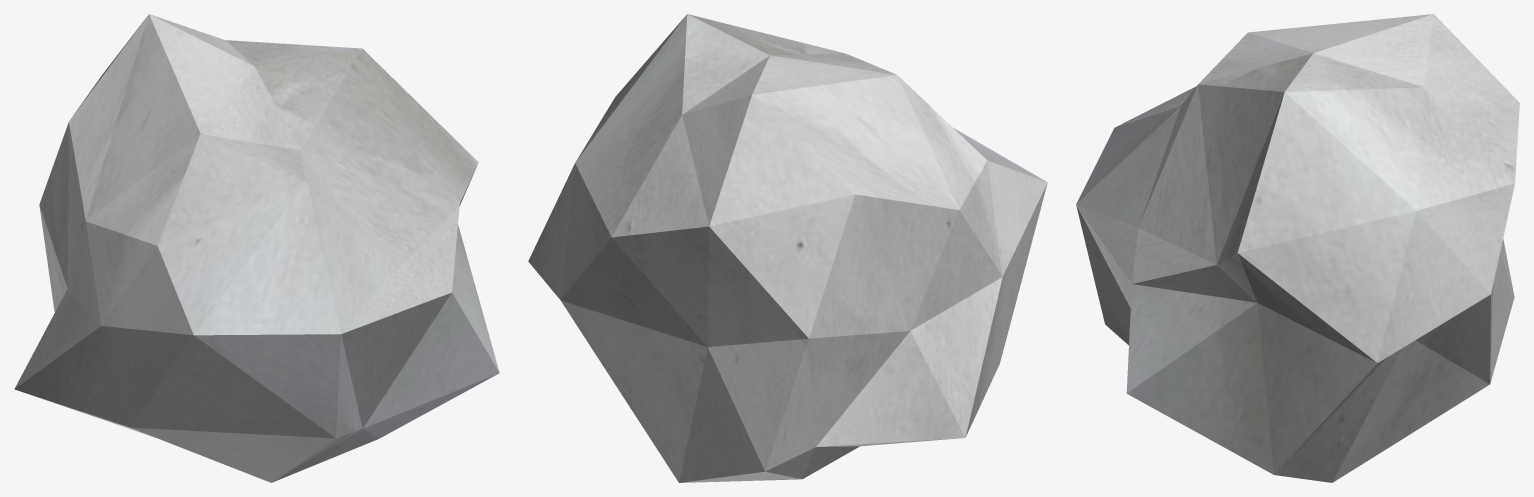
Rendered from paper_ball.fbx.
3 views of the same model, side by side, from view 1: azimuth 30°, elevation 25°; view 2: azimuth 150°, elevation 25°; view 3: azimuth 270°, elevation 25° (orthographic). The views are drawn at different scales.
Visible parts, largest first — view 1: Icosphere; view 2: Icosphere; view 3: Icosphere.
Part boxes in pixels (bbox=[...]): Icosphere: bbox=[14, 14, 499, 482]; Icosphere: bbox=[528, 14, 1047, 482]; Icosphere: bbox=[1076, 14, 1519, 482].
Size of the model in its own units: 212 by 206 by 202.
